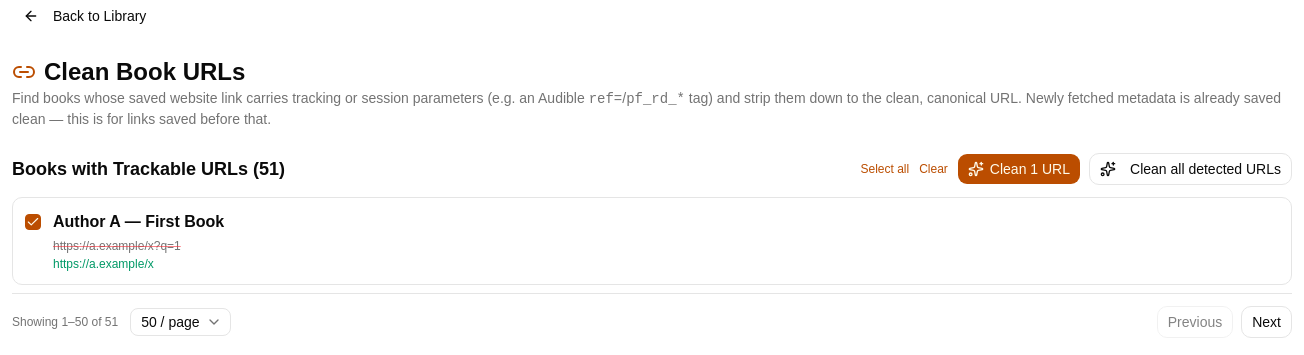
Scenario: CleanBookUrls › resets the selection when navigating pages
Click the checkbox. click: coordinates (33, 222)
box: [25, 214, 41, 230]
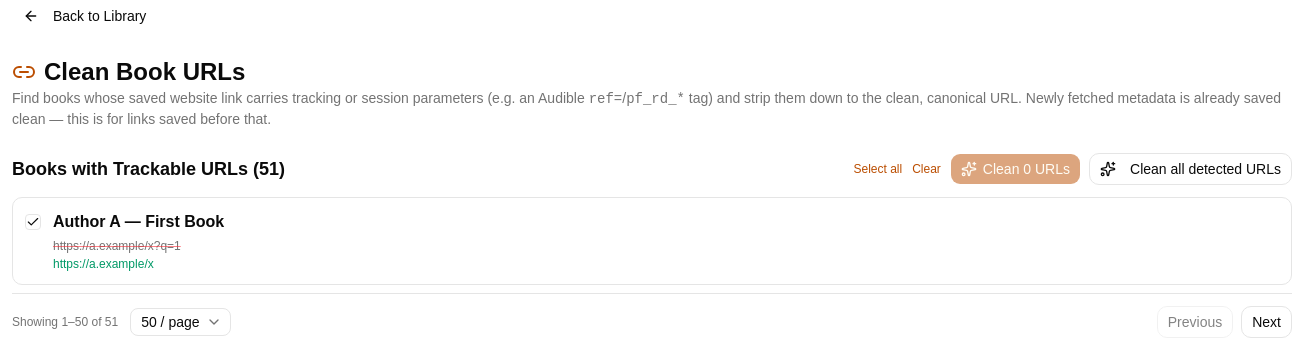
Expected: the button "Clean 0 URLs" is disabled, [950, 153, 1081, 185]
Click the button "Next". click: coordinates (1267, 322)
box: [1241, 306, 1292, 338]
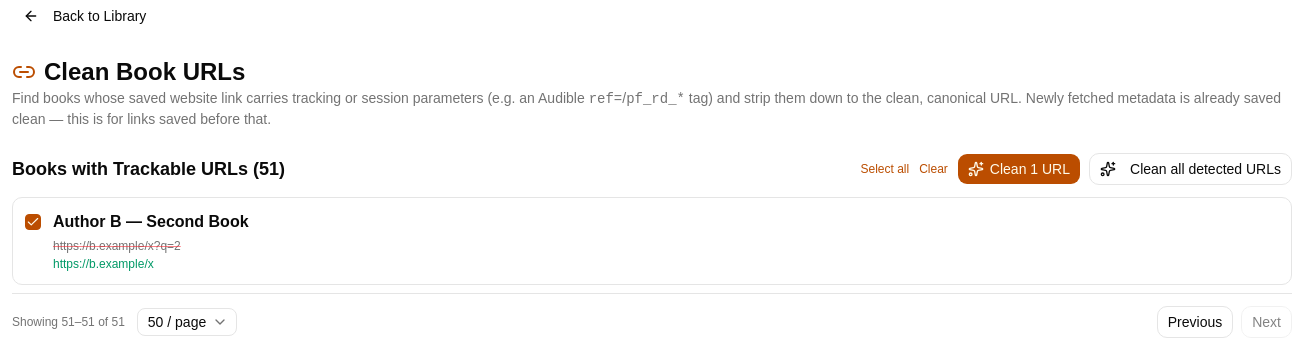
Expected: the link "Author B — Second Book" is shown, [53, 213, 249, 230]
Expected: the button "Clean 1 URL" is enabled, [957, 153, 1081, 185]
